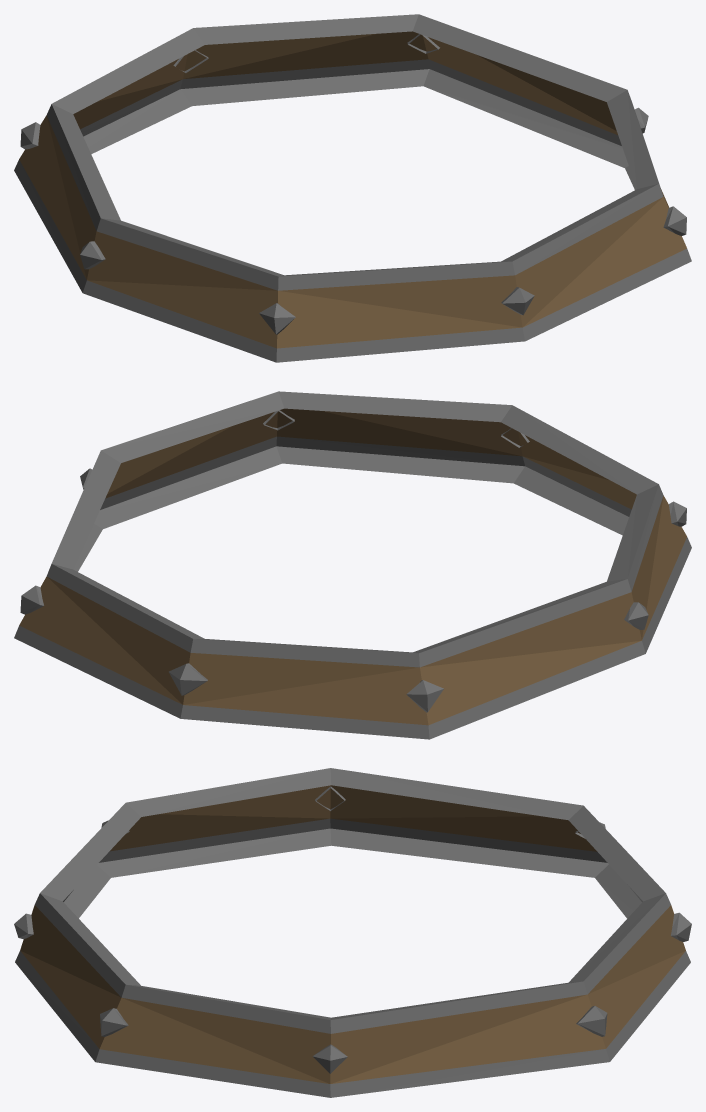
The model's file is LegendaryNobleWarriorHat.dae.
3 renders of one model, top to bottom at view 1: azimuth 30°, elevation 25°; view 2: azimuth 150°, elevation 25°; view 3: azimuth 270°, elevation 25°, orthographic.
Visible parts, largest first — view 1: Helmet; view 2: Helmet; view 3: Helmet.
Boxes of the visible parts, bbox=[...] form: Helmet: bbox=[14, 14, 691, 362]; Helmet: bbox=[14, 391, 691, 739]; Helmet: bbox=[14, 768, 691, 1097].
Size of the model in its own units: 1.57 by 1.65 by 0.209.
